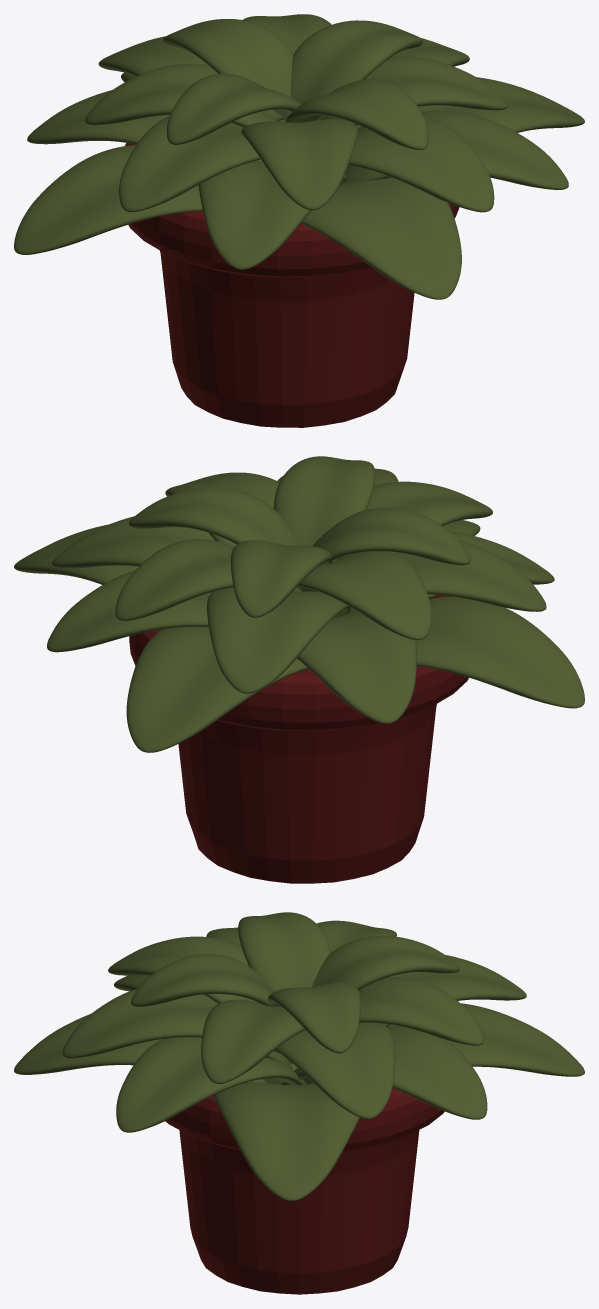
The model's file is planta2.fbx.
3 renders of one model, top to bottom at view 1: azimuth 30°, elevation 25°; view 2: azimuth 150°, elevation 25°; view 3: azimuth 270°, elevation 25°, orthographic. The views are drawn at different scales.
Visible parts, largest first — view 1: vaso; view 2: vaso; view 3: vaso.
Part boxes in pixels (bbox=[...]): vaso: bbox=[14, 14, 584, 427]; vaso: bbox=[14, 456, 584, 883]; vaso: bbox=[14, 912, 584, 1294].
Bounding box in the file's own units: 358 × 200 × 341.
